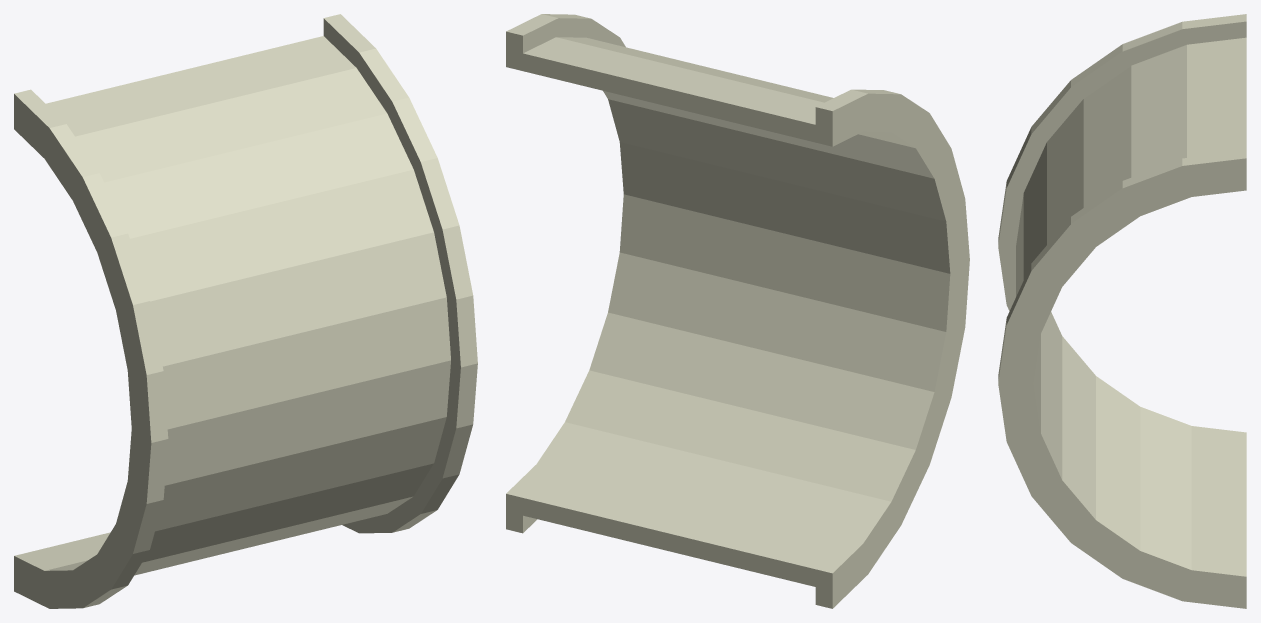
The model's file is section_022.obj.
3 renders of one model, left to right at view 1: azimuth 30°, elevation 25°; view 2: azimuth 150°, elevation 25°; view 3: azimuth 270°, elevation 25°, orthographic. The views are drawn at different scales.
Bounding box in the file's own units: 19.23 × 28 × 14.
